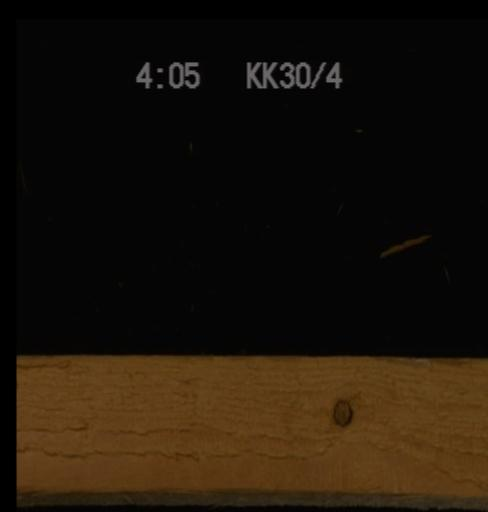dry_knot: (329, 394, 353, 429)
